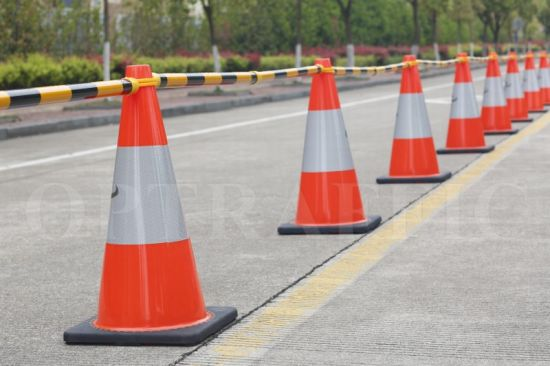cones: (71, 61, 247, 356), (278, 57, 384, 239), (387, 49, 450, 184)
